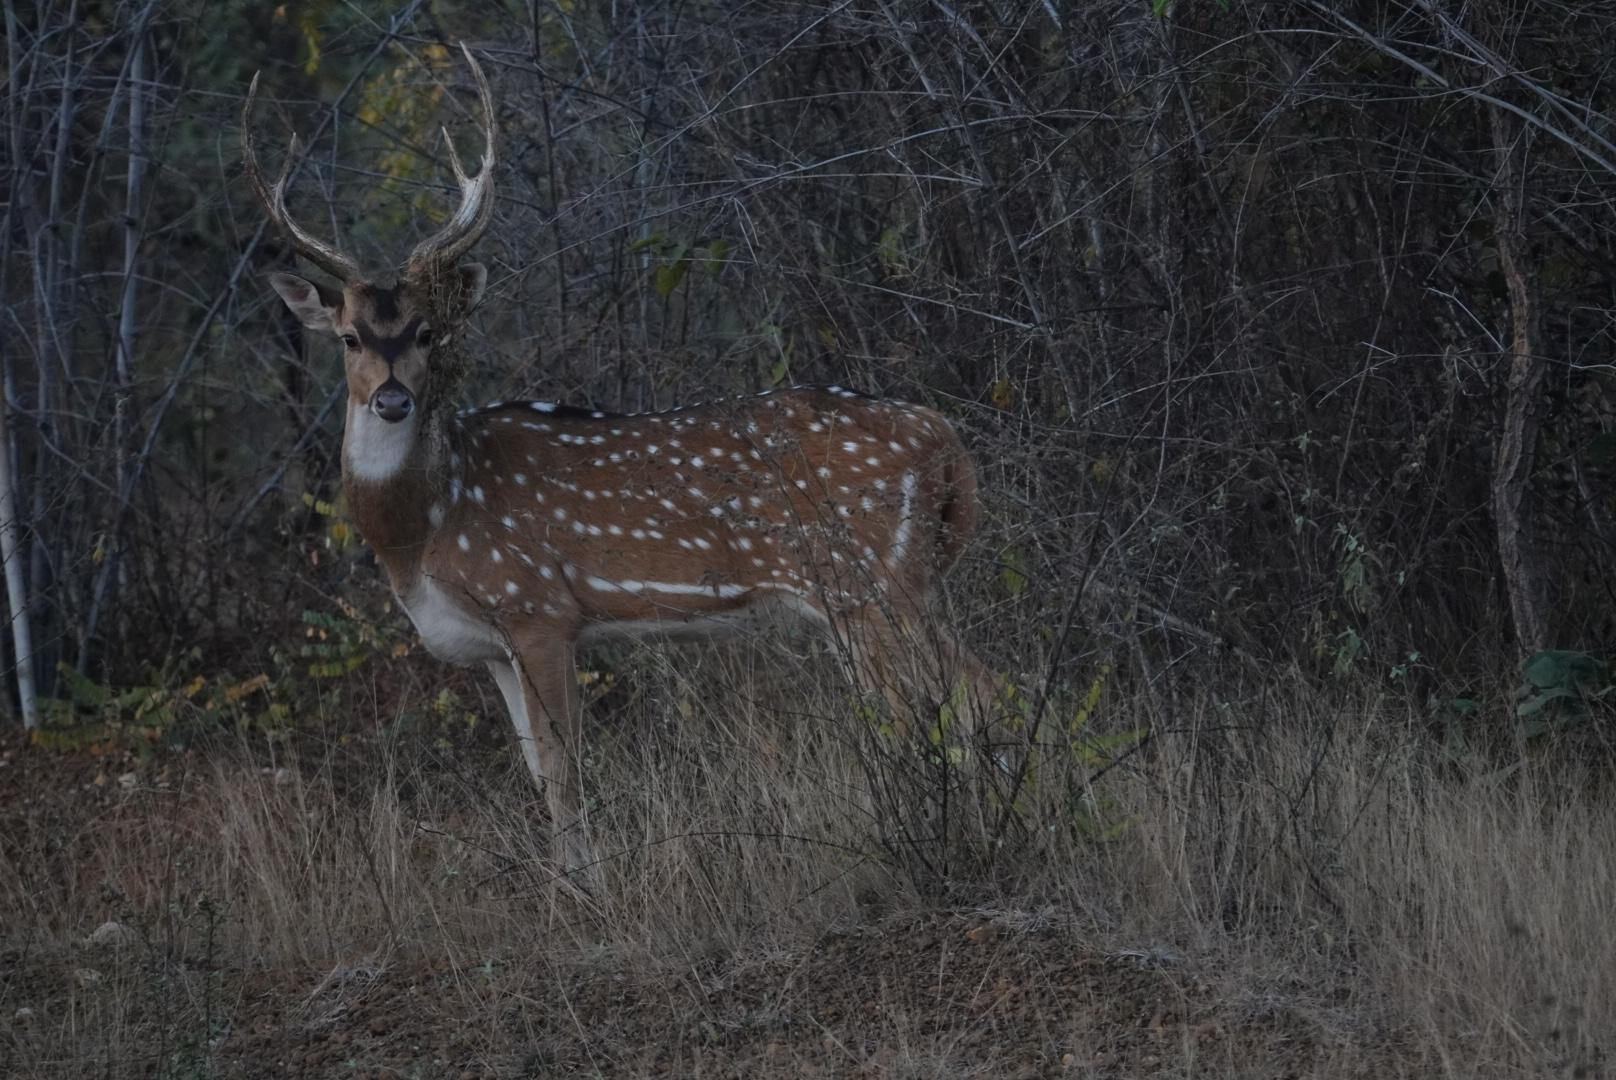Deer: (243, 43, 992, 870)
